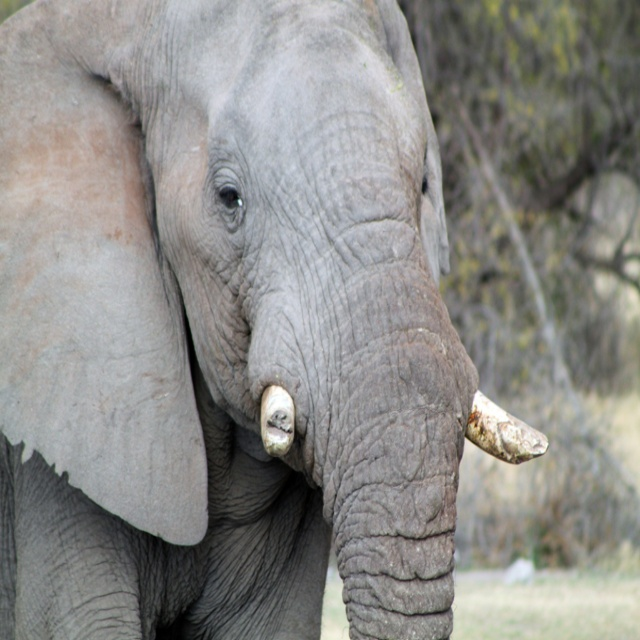Elephant: (0, 13, 529, 640)
